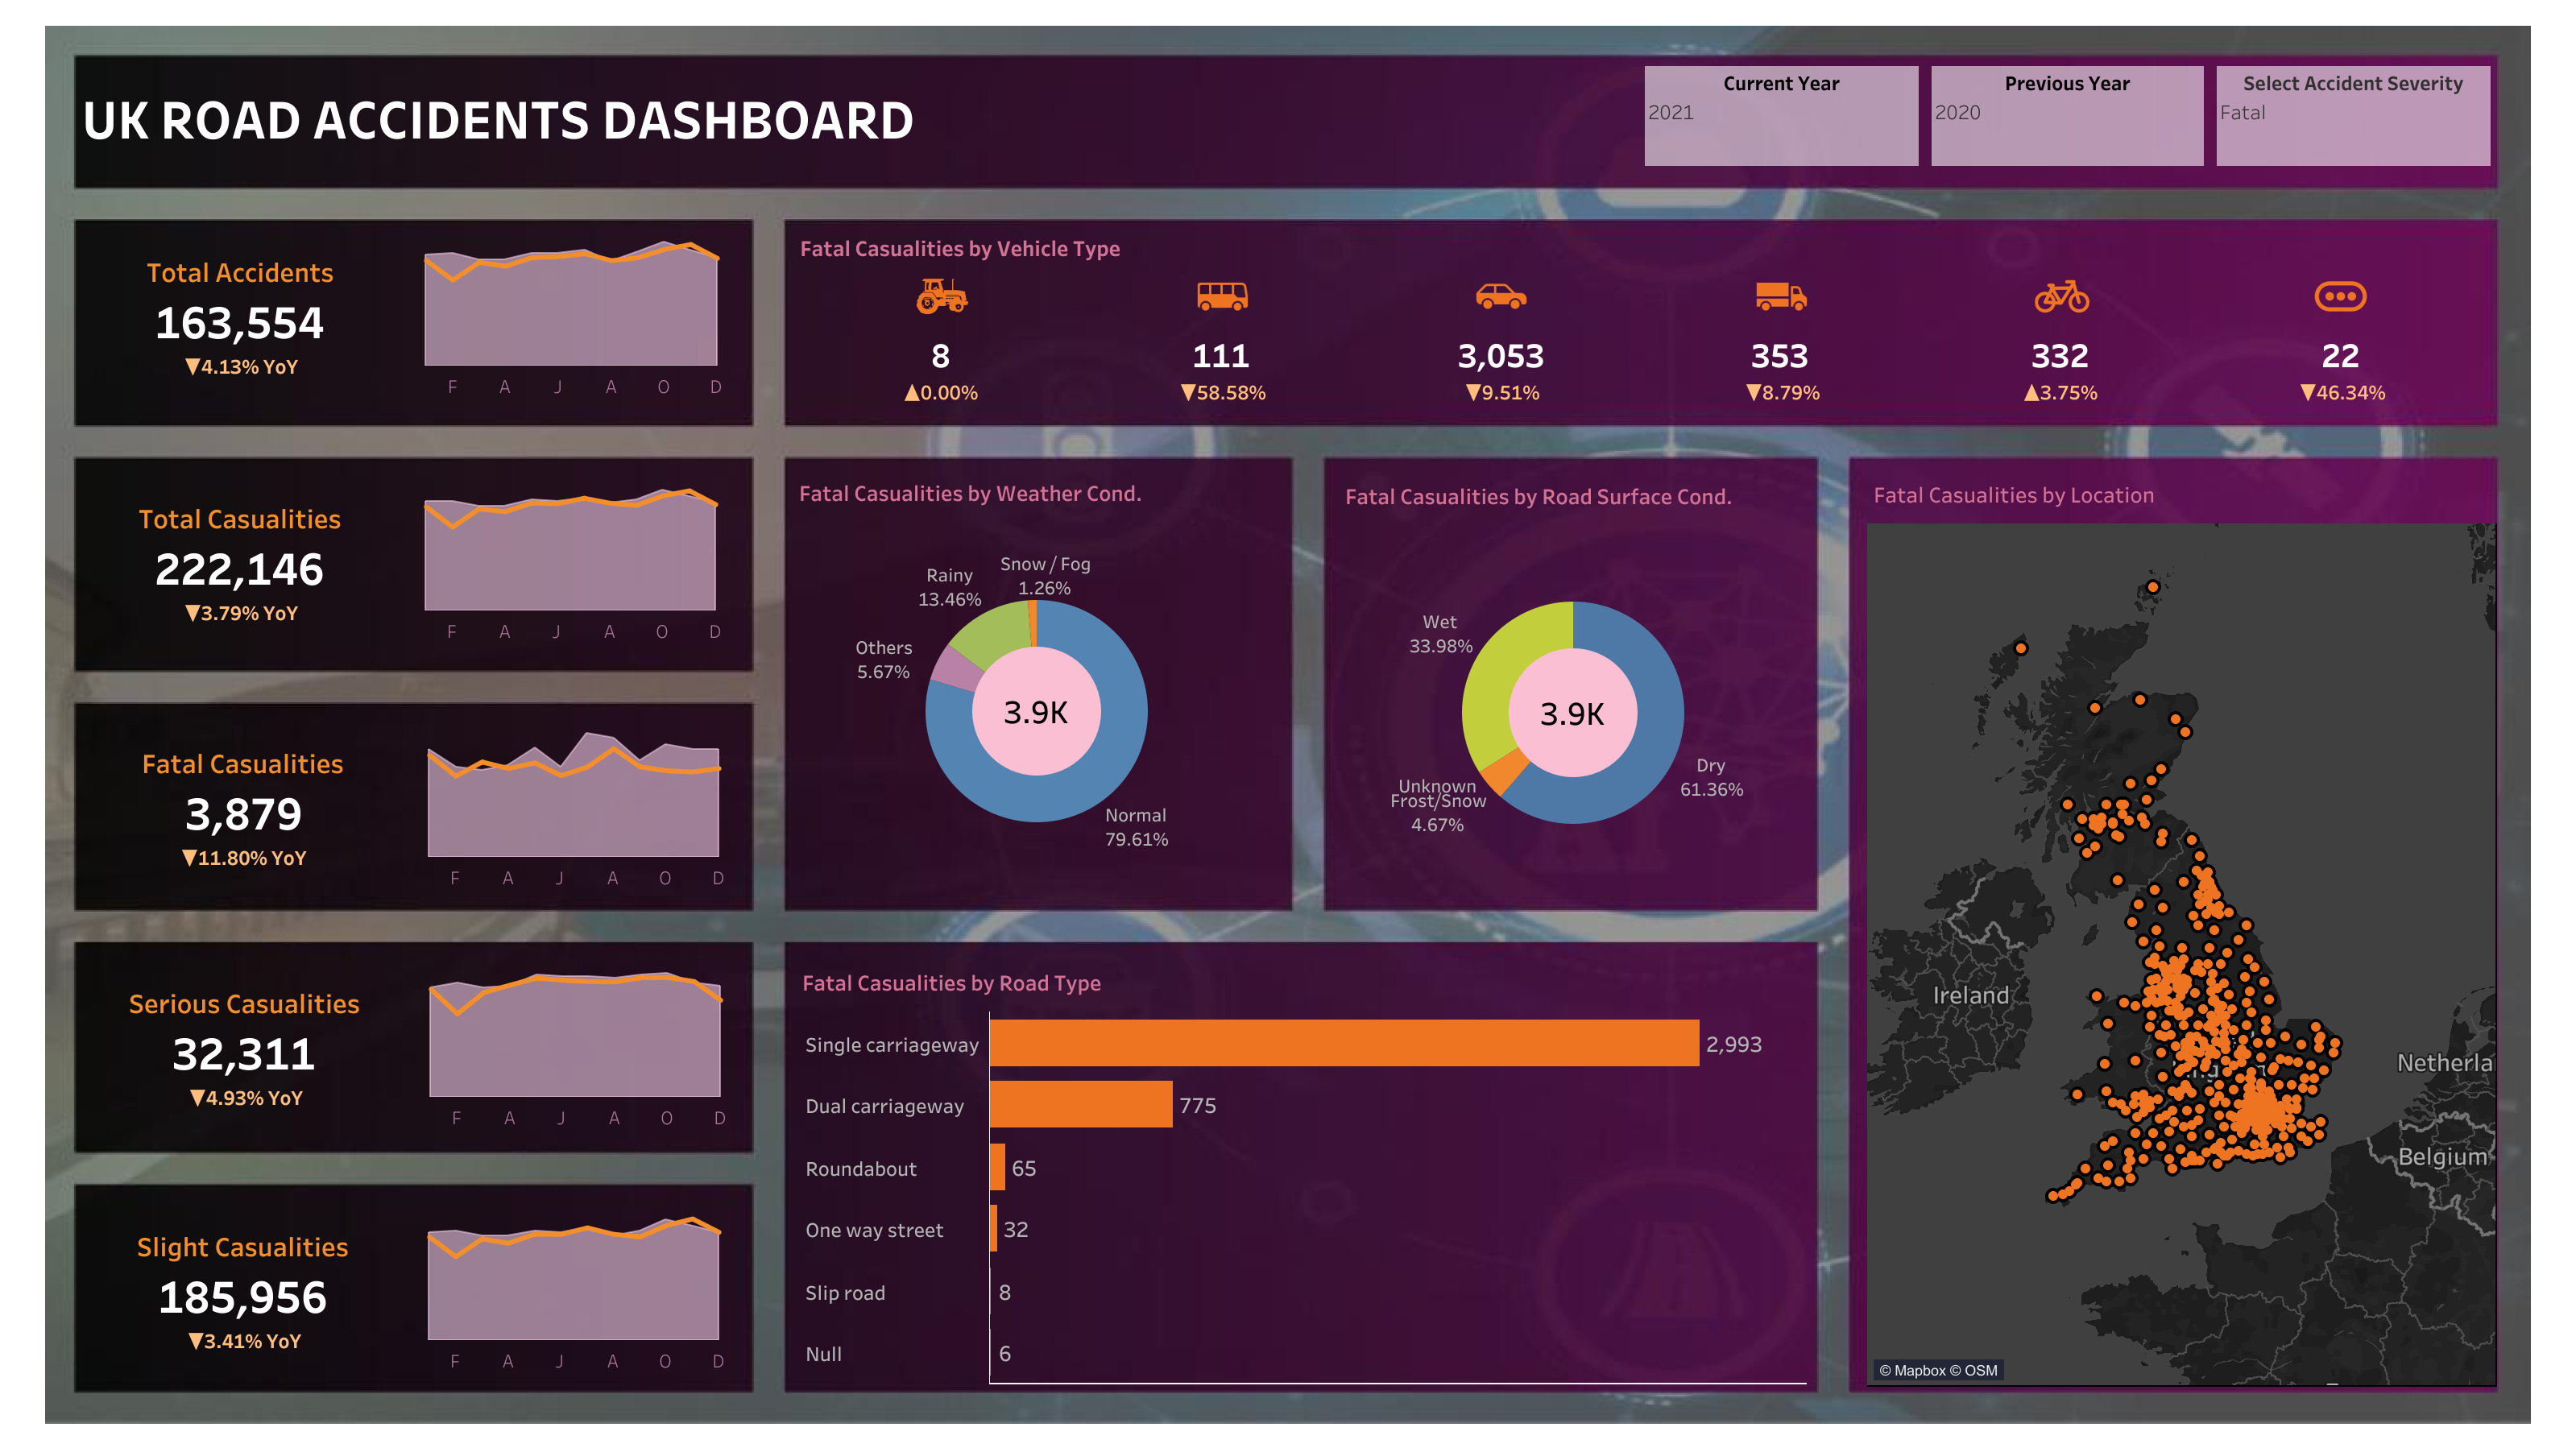

What the dashboard file says about the page in this screenshot:
{"tool":"tableau","page":{"name":"Dashboard 1","canvas":[1600,900],"ordinal":0},"visuals":[{"type":"image","param":"/Users/priyakamath/Downloads/Background.pptx.jpg","box":[8,8,1584,884]},{"type":"parameter","param":"[Parameters].[Parameter 1]","box":[1017,37,177.7,70]},{"type":"parameter","param":"[Parameters].[Current Year (copy)_688698926114480129]","box":[1194.7,37,177.7,70]},{"type":"parameter","param":"[Parameters].[Parameter 2]","box":[1372.3,37,177.7,70]},{"type":"text","box":[48,40,528,65]},{"type":"text","box":[494,138,333,30]},{"type":"worksheet","title":"Total Accidents","mark":"Automatic","box":[47,142,205,110]},{"type":"worksheet","title":"Accidents Sparkline","mark":"Automatic","rows":["Calculation_688698926121095171","Calculation_688698926114951170"],"cols":["Accident Date"],"box":[252,142,205,110]},{"type":"worksheet","title":"Vehicle Type Images","mark":"Shape","box":[494,157,1050,49]},{"type":"worksheet","title":"Vehicle Type KPI","mark":"Automatic","box":[494,206,1050,51]},{"type":"worksheet","title":"Weather Condition","mark":"Pie","rows":["Calculation_1366772148933820417","Calculation_1366772148933840899"],"box":[492,290,303,269]},{"type":"worksheet","title":"By Location","mark":"Automatic","rows":["Latitude"],"cols":["Longitude"],"box":[1159,291,390,569]},{"type":"worksheet","title":"Road surface","mark":"Pie","rows":["Calculation_1366772148933820417","Calculation_1366772148933840899"],"box":[831,292,291,267]},{"type":"worksheet","title":"Total Casualities","mark":"Automatic","box":[47,295,205,110]},{"type":"worksheet","title":"Total Casualities Sparkline","mark":"Automatic","rows":["CY Casualities (copy)_902619908774973442","Calculation_902619908774363137"],"cols":["Accident Date"],"box":[252,295,205,110]},{"type":"worksheet","title":"Fatal Casualities","mark":"Automatic","box":[49,447,205,110]},{"type":"worksheet","title":"Fatal Casualities Sparkline","mark":"Automatic","rows":["CY fatal casualities (copy)_902619908790960133","Calculation_902619908790374404"],"cols":["Accident Date"],"box":[254,447,205,110]},{"type":"worksheet","title":"Road Type","mark":"Automatic","rows":["Road_Type"],"cols":["Calculation_902619908774363137"],"box":[494,594,627,265]},{"type":"worksheet","title":"Serious Casualities","mark":"Automatic","box":[50,596,205,110]},{"type":"worksheet","title":"Serious Casualities Sparkline","mark":"Automatic","rows":["PY fatal casualities  (copy)_902619908794998792","CY fatal casualities (copy)_902619908794888199"],"cols":["Accident Date"],"box":[255,596,205,110]},{"type":"worksheet","title":"Slight Casualities","mark":"Automatic","box":[49,747,205,110]},{"type":"worksheet","title":"Slight Casualities Sparkline","mark":"Automatic","rows":["PY serious casualities  (copy)_902619908795633675","CY serious casualities  (copy)_902619908795564042"],"cols":["Accident Date"],"box":[254,747,205,110]}]}

Visuals, with their boxes in screenshot pixels (x1, y1, x2, y2), scaled from the page's 1600x900 canvas onto the 2576x1448 screenshot:
image: select_region(13, 13, 2563, 1435)
parameter: select_region(1638, 60, 1924, 172)
parameter: select_region(1924, 60, 2209, 172)
parameter: select_region(2209, 60, 2495, 172)
text: select_region(77, 64, 927, 169)
text: select_region(795, 222, 1331, 271)
"Total Accidents" worksheet: select_region(76, 229, 406, 405)
"Accidents Sparkline" worksheet: select_region(406, 229, 735, 405)
"Vehicle Type Images" worksheet (Shape marks): select_region(795, 253, 2486, 332)
"Vehicle Type KPI" worksheet: select_region(795, 332, 2486, 413)
"Weather Condition" worksheet (Pie marks): select_region(792, 466, 1280, 900)
"By Location" worksheet: select_region(1866, 468, 2494, 1384)
"Road surface" worksheet (Pie marks): select_region(1338, 470, 1807, 900)
"Total Casualities" worksheet: select_region(76, 474, 406, 652)
"Total Casualities Sparkline" worksheet: select_region(406, 474, 735, 652)
"Fatal Casualities" worksheet: select_region(79, 719, 409, 896)
"Fatal Casualities Sparkline" worksheet: select_region(409, 719, 739, 896)
"Road Type" worksheet: select_region(795, 956, 1805, 1382)
"Serious Casualities" worksheet: select_region(81, 959, 411, 1136)
"Serious Casualities Sparkline" worksheet: select_region(411, 959, 740, 1136)
"Slight Casualities" worksheet: select_region(79, 1202, 409, 1379)
"Slight Casualities Sparkline" worksheet: select_region(409, 1202, 739, 1379)
